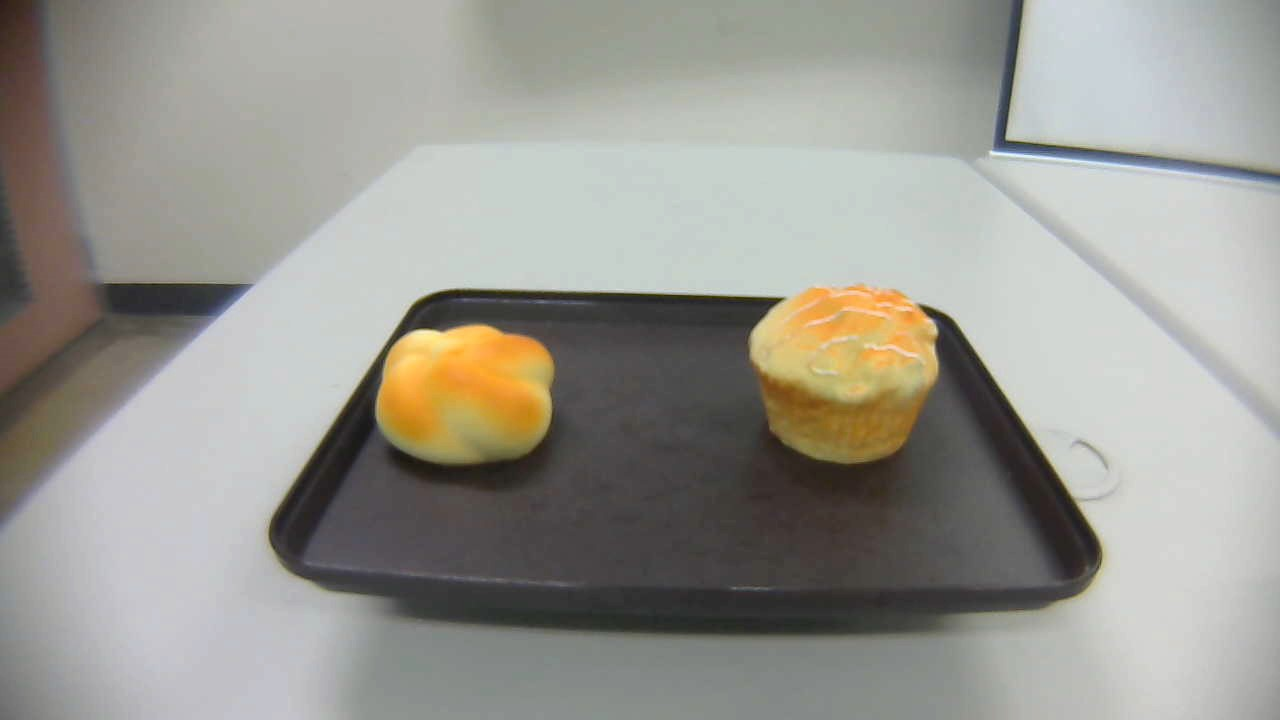cupcake: (748, 285, 942, 466)
twist bread: (375, 323, 556, 466)
